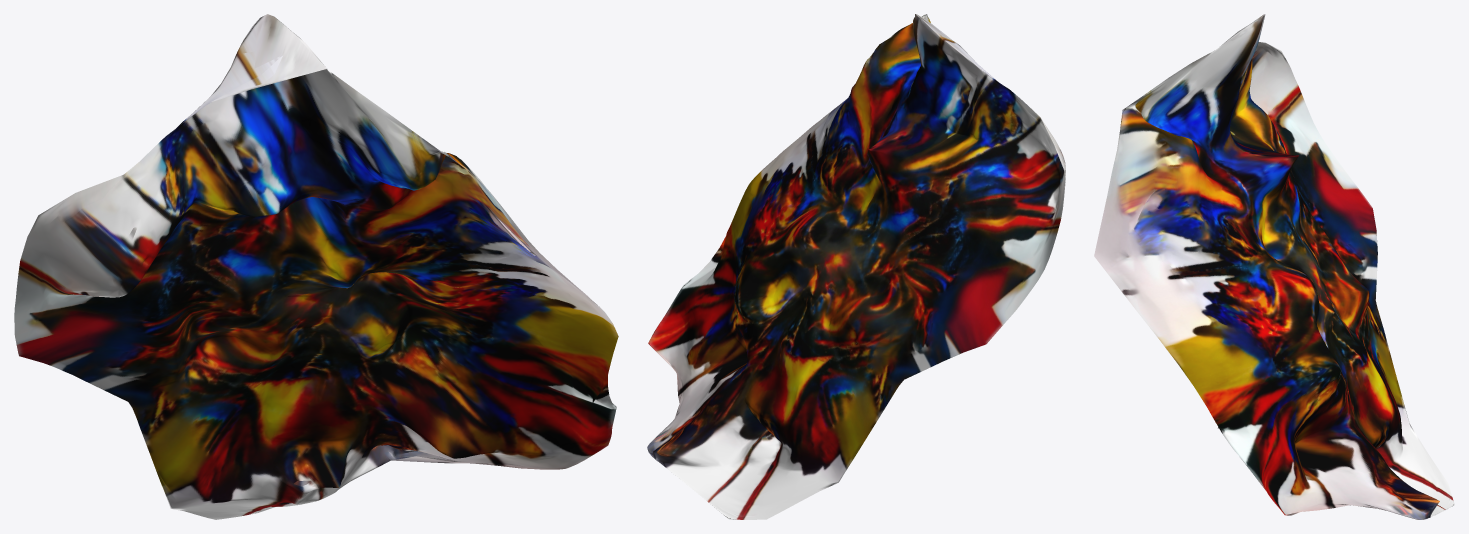
Rendered from 3DModel_Custom.glb.
3 renders of one model, left to right at view 1: azimuth 30°, elevation 25°; view 2: azimuth 150°, elevation 25°; view 3: azimuth 270°, elevation 25°, orthographic. The views are drawn at different scales.
Parts seen in each view (by area): view 1: 3DModel_Custom; view 2: 3DModel_Custom; view 3: 3DModel_Custom.
Part boxes in pixels (x1,y1,x2,y2): 3DModel_Custom: (14, 14, 618, 519); 3DModel_Custom: (647, 14, 1065, 519); 3DModel_Custom: (1094, 14, 1454, 519).
Size of the model in its own units: 0.5682 by 0.589 by 0.4305.
1 material, 1 textured.
